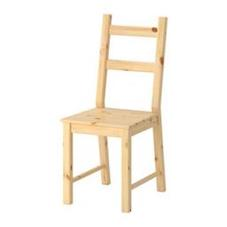chair: (47, 7, 190, 214)
